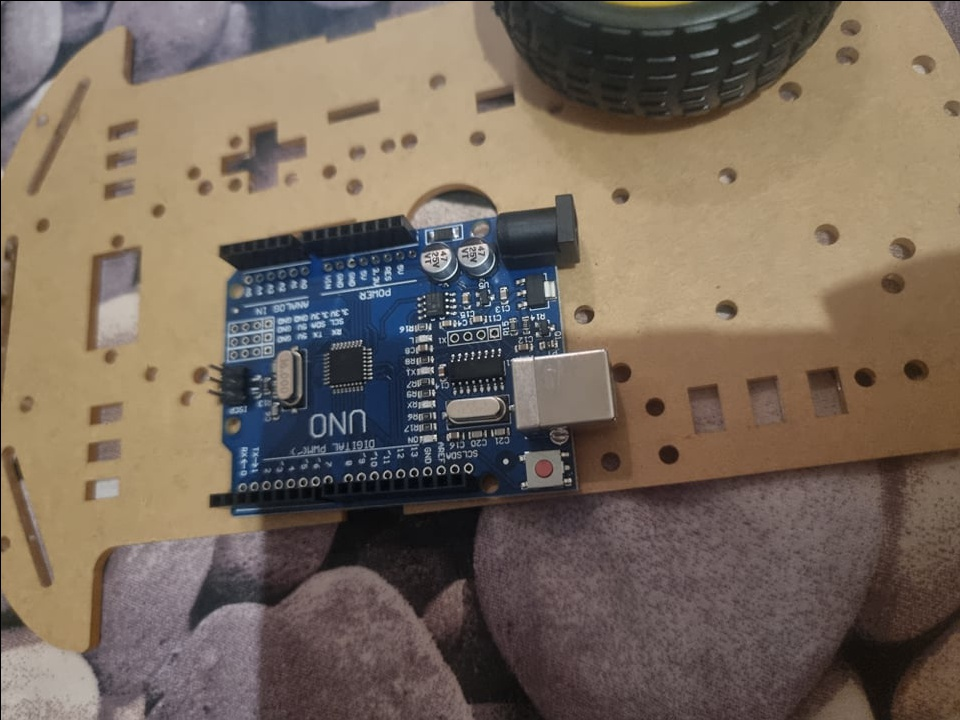UNO R3: (218, 191, 616, 517)
